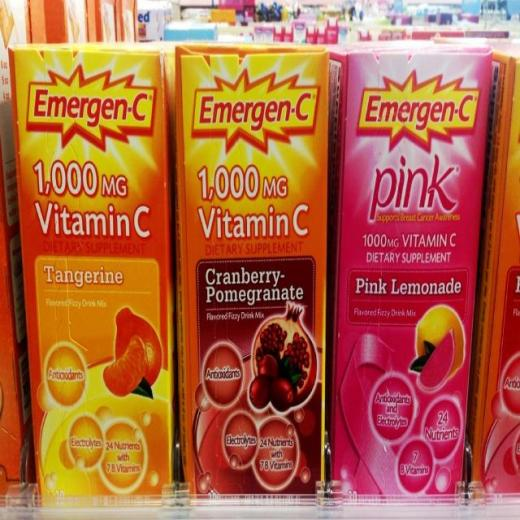Grape: (416, 305, 466, 373)
